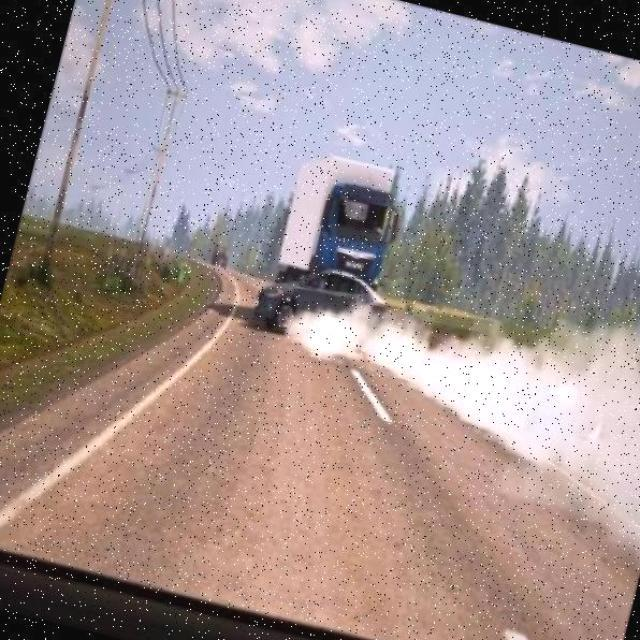accident: (233, 142, 427, 366)
